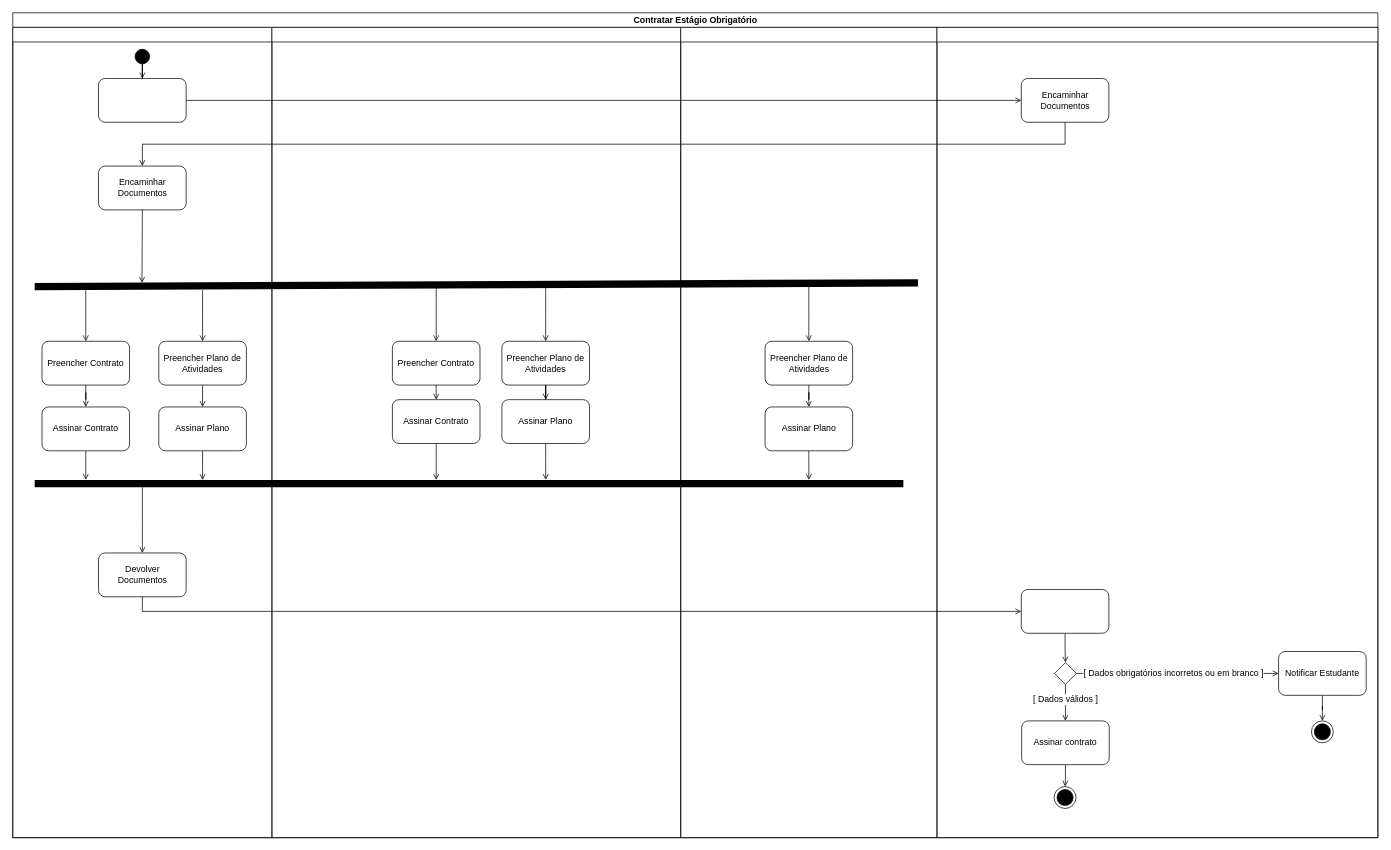
Some shapes in this 1391 by 850 pixel diagram are drawn without their labels. The box of each missing label's shape, as (x1, y1, x2, y2) in pixels:
Empresa: (271, 27, 681, 838)
Estudante: (12, 27, 272, 838)
Professor Orientador: (680, 27, 937, 838)
Seção de Estágio: (936, 27, 1378, 838)
Solicitar Documentos: (98, 78, 186, 122)
Validar Contrato: (1021, 589, 1109, 633)
